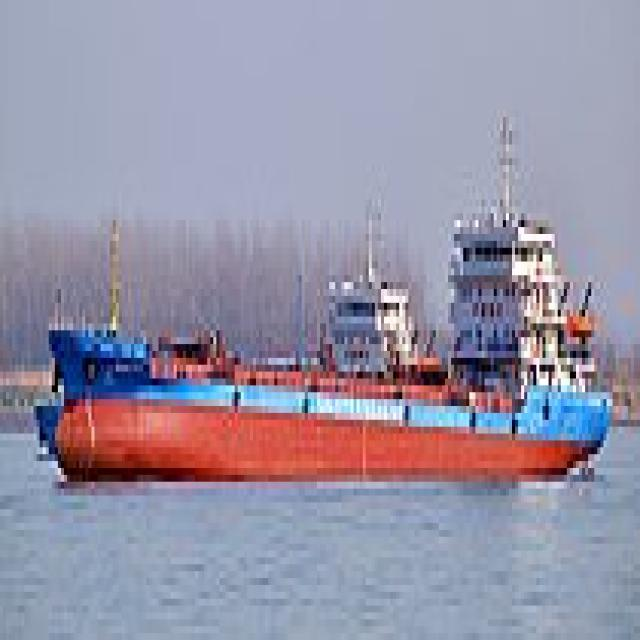Tanker: (40, 103, 612, 475)
